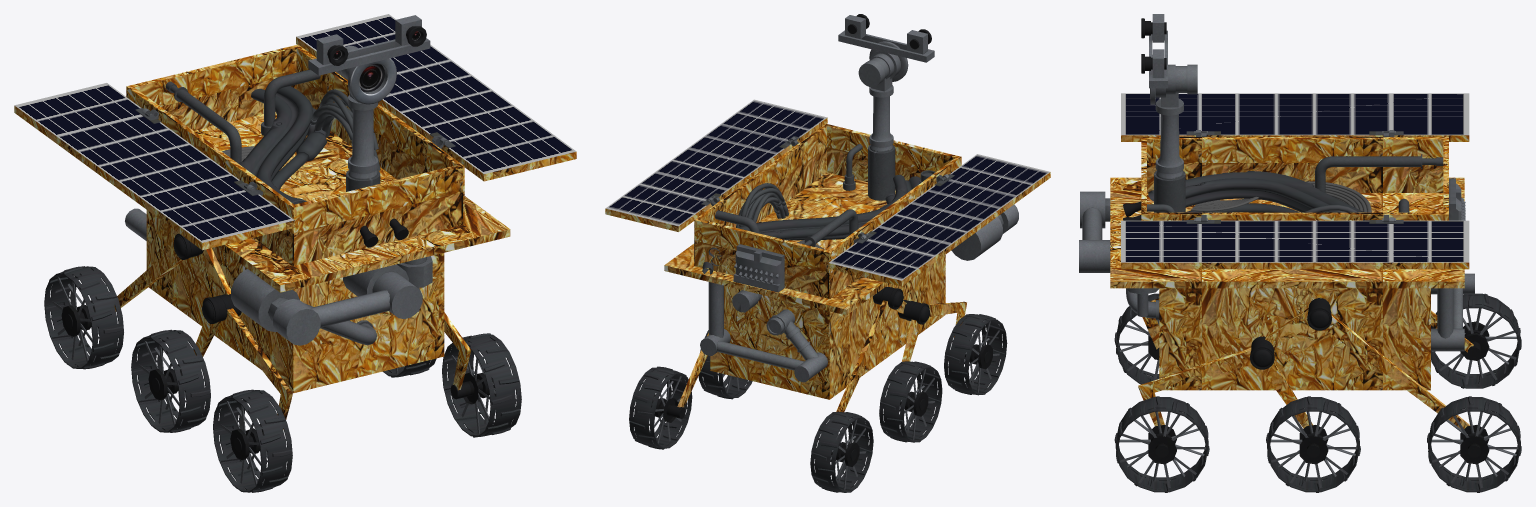
3 renders of one model, left to right at view 1: azimuth 30°, elevation 25°; view 2: azimuth 150°, elevation 25°; view 3: azimuth 270°, elevation 25°, orthographic. The views are drawn at different scales.
Parts seen in each view (by area): view 1: 玉兔; view 2: 玉兔; view 3: 玉兔.
Part boxes in pixels (<box>): 玉兔: <box>14,14,576,492</box>; 玉兔: <box>605,14,1050,492</box>; 玉兔: <box>1079,14,1521,492</box>.
Size of the model in its own units: 221 by 243 by 245.
